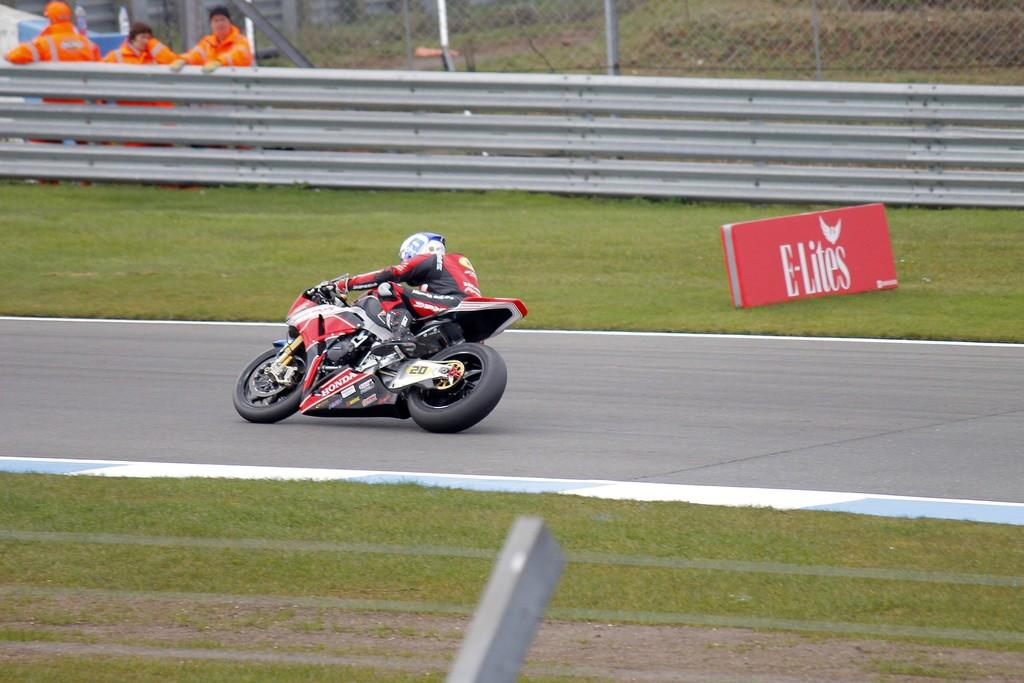helmet: (397, 232, 446, 287)
nohelmet: (207, 4, 233, 38), (128, 21, 154, 53)
